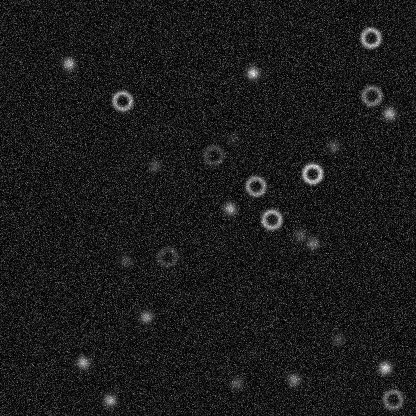Ring: (359, 83, 383, 107), (243, 173, 267, 197), (380, 387, 404, 411), (259, 207, 283, 231), (201, 143, 225, 167), (110, 88, 134, 112), (300, 161, 324, 185), (358, 25, 382, 49), (155, 244, 179, 268)
Spot: (228, 375, 244, 391), (117, 252, 133, 268), (330, 330, 346, 346), (138, 308, 154, 324), (291, 227, 307, 243), (325, 138, 341, 154), (146, 157, 162, 173), (376, 359, 392, 375), (381, 105, 397, 121), (74, 354, 90, 370), (60, 55, 76, 71), (285, 371, 301, 387), (101, 392, 117, 408), (244, 64, 260, 80), (304, 235, 320, 251), (224, 130, 240, 146), (221, 200, 237, 216)
